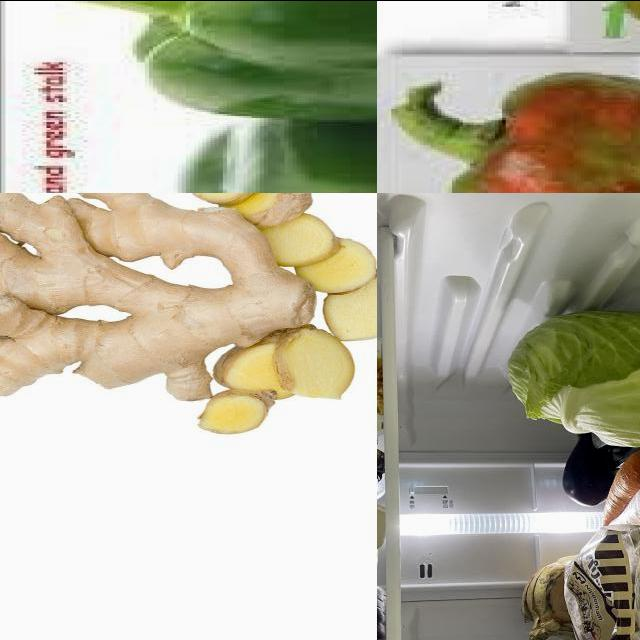bell_pepper: (10, 1, 378, 141), (384, 67, 640, 193), (177, 119, 378, 193)
cabbage: (509, 302, 640, 447)
carrot: (603, 447, 640, 527), (606, 475, 640, 531)
eggplant: (565, 431, 619, 503)
onion: (519, 555, 586, 640)
